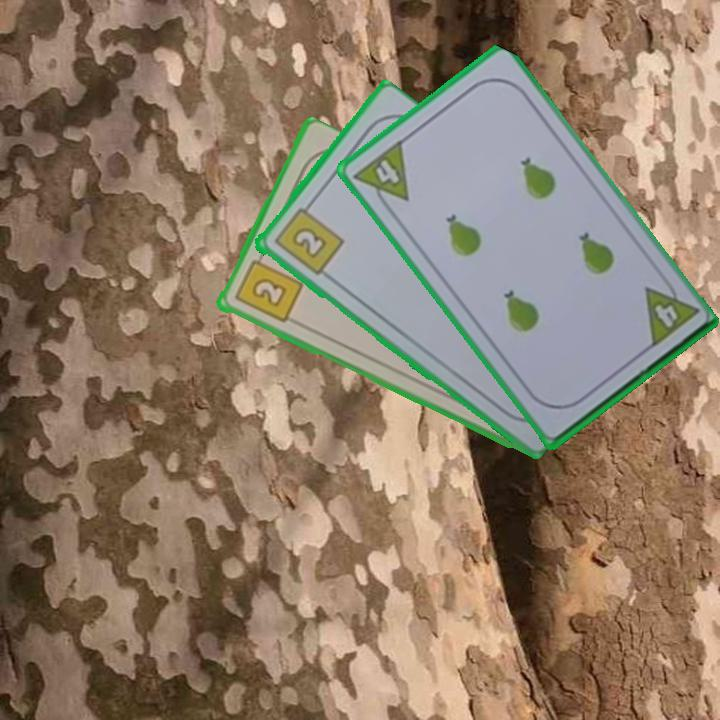2b: (270, 198, 346, 278), (230, 249, 305, 326)
4p: (349, 136, 412, 216), (640, 272, 700, 351)
